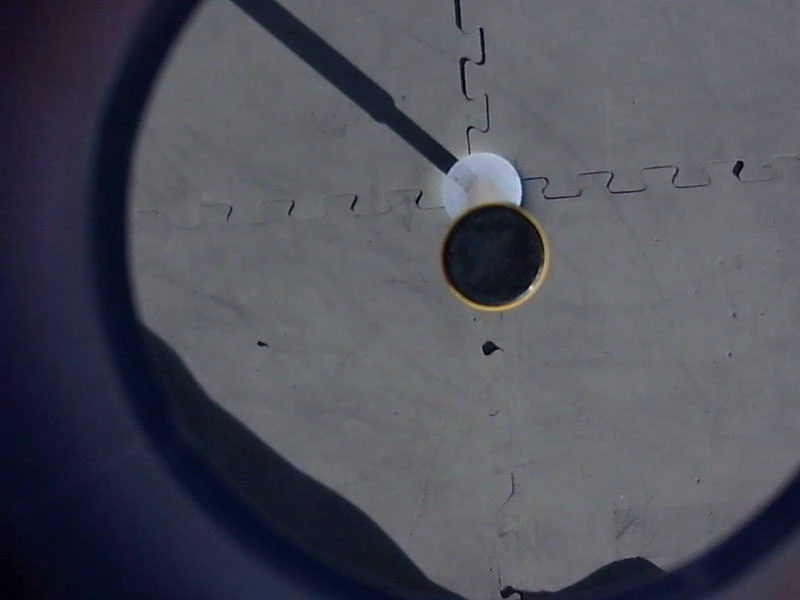tip: (436, 199, 553, 316)
